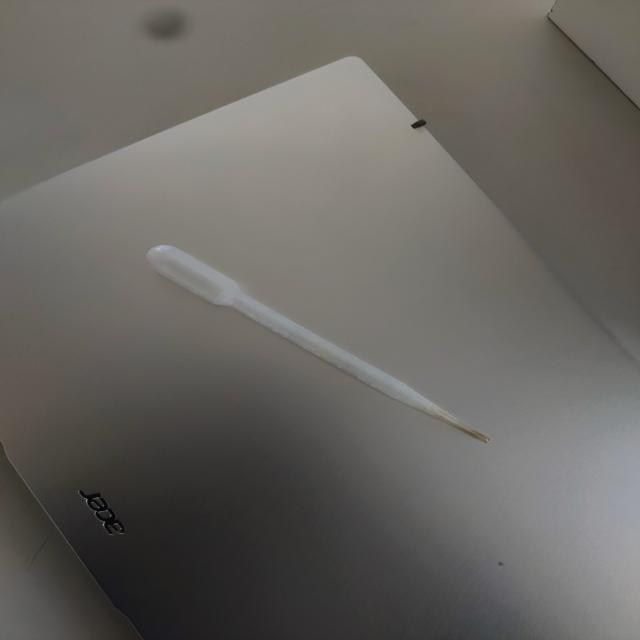Pipette: (116, 222, 508, 470)
